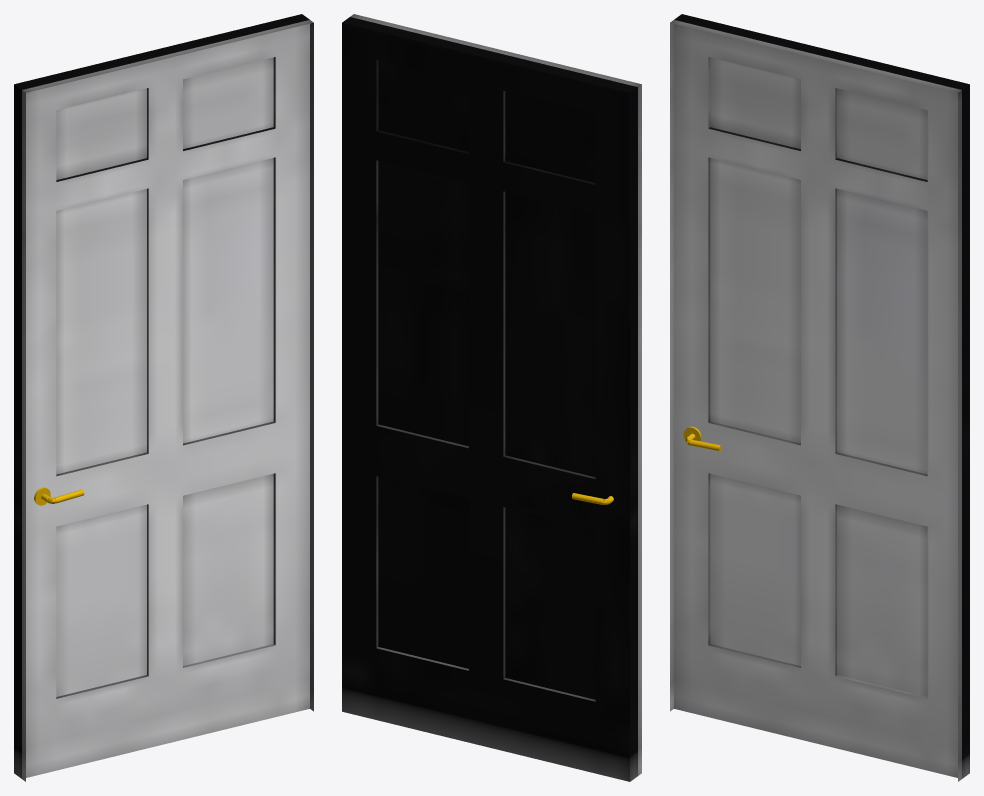
The model's file is residence-wsg.glb.
3 renders of one model, left to right at view 1: azimuth 30°, elevation 25°; view 2: azimuth 150°, elevation 25°; view 3: azimuth 330°, elevation 25°, orthographic.
Parts seen in each view (by area): view 1: Object_14; view 2: Object_14; view 3: Object_14.
Part boxes in pixels (x1=…): Object_14: x1=14, y1=14, x2=313, y2=781; Object_14: x1=342, y1=14, x2=641, y2=781; Object_14: x1=670, y1=14, x2=969, y2=781.
Size of the model in its own units: 1.07 by 2.44 by 0.1666.
Materials: 2 (1 with a texture image).
